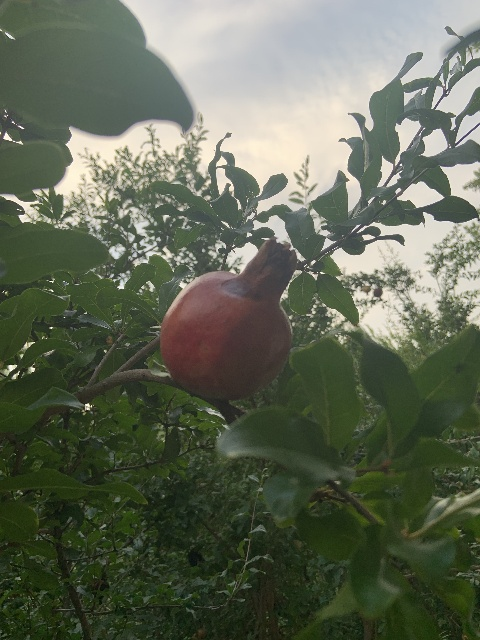ripe: (159, 236, 296, 400)
